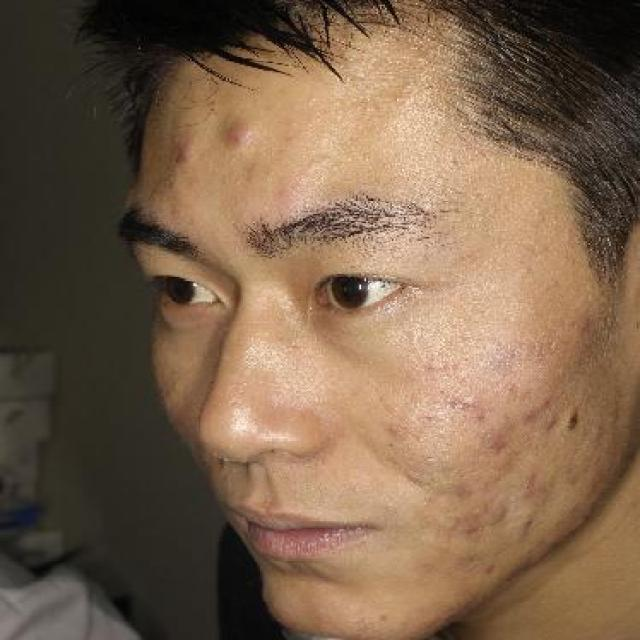nodules: (218, 105, 264, 162)
papules: (565, 396, 590, 436), (489, 499, 514, 523), (534, 414, 566, 431), (517, 402, 537, 423)
